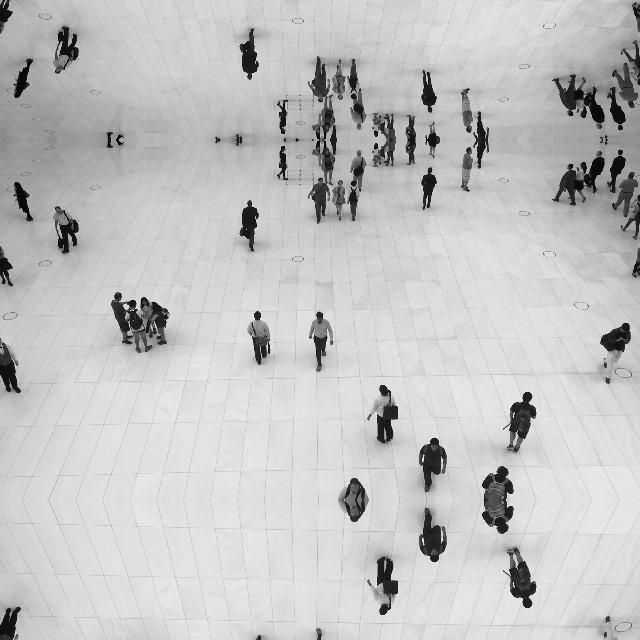person: (505, 546, 537, 610), (505, 391, 537, 454), (600, 322, 632, 384), (367, 384, 399, 444), (367, 556, 399, 616), (418, 437, 448, 493), (418, 507, 448, 563), (308, 310, 334, 372), (124, 299, 152, 353), (247, 310, 271, 366), (52, 206, 78, 254), (110, 292, 134, 344), (52, 26, 78, 74), (612, 171, 638, 217), (612, 63, 638, 109), (1, 338, 22, 394), (481, 466, 515, 500), (481, 500, 515, 534), (552, 164, 578, 206), (552, 74, 578, 116), (308, 176, 330, 224), (308, 56, 330, 104), (239, 200, 259, 252), (239, 28, 259, 80), (583, 86, 605, 130), (583, 150, 605, 193), (606, 148, 626, 194), (620, 193, 640, 239), (606, 86, 626, 132), (620, 41, 640, 87), (150, 301, 170, 345), (13, 182, 33, 222), (13, 58, 33, 98), (600, 615, 632, 640), (420, 70, 438, 114), (420, 167, 438, 210), (138, 296, 156, 338), (349, 150, 366, 192), (0, 606, 21, 640), (349, 88, 366, 130), (338, 478, 370, 500), (338, 500, 370, 522), (460, 146, 474, 192), (460, 88, 474, 134), (320, 147, 336, 185), (320, 95, 336, 133), (332, 179, 346, 221), (347, 180, 361, 222), (574, 161, 588, 203), (332, 59, 346, 101), (347, 58, 361, 100), (574, 77, 588, 119), (0, 246, 14, 286), (276, 146, 290, 180), (0, 0, 14, 34), (276, 100, 290, 134), (312, 140, 326, 172), (473, 140, 489, 168), (312, 108, 326, 140), (473, 112, 489, 140), (382, 140, 396, 167), (382, 114, 396, 140), (424, 140, 440, 160), (424, 120, 440, 140), (308, 628, 334, 640), (406, 140, 416, 166), (406, 114, 416, 140), (632, 246, 640, 278), (632, 2, 640, 34), (371, 143, 381, 167), (371, 113, 381, 137), (107, 140, 125, 148), (247, 634, 271, 640), (107, 132, 125, 140), (330, 140, 338, 156), (330, 124, 338, 140)
